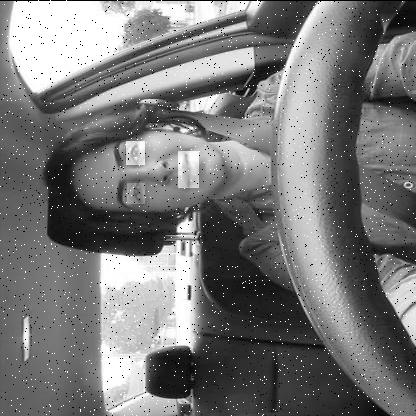seatbelt: (42, 116, 416, 256)
